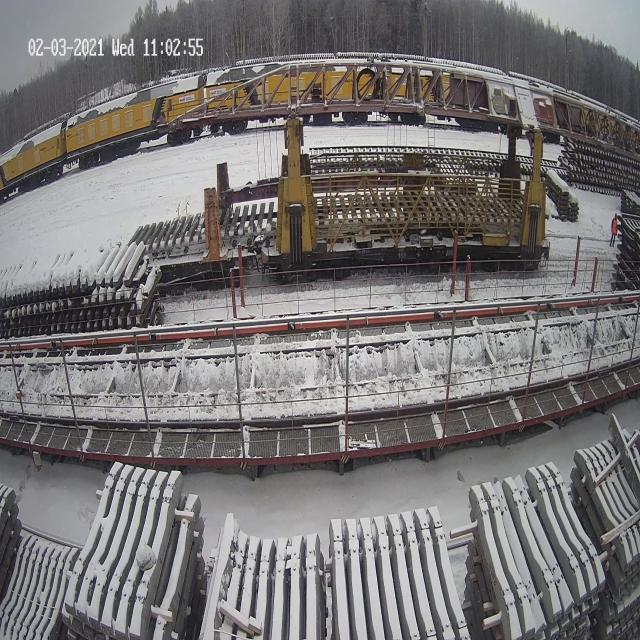Person: (609, 214, 618, 246)
